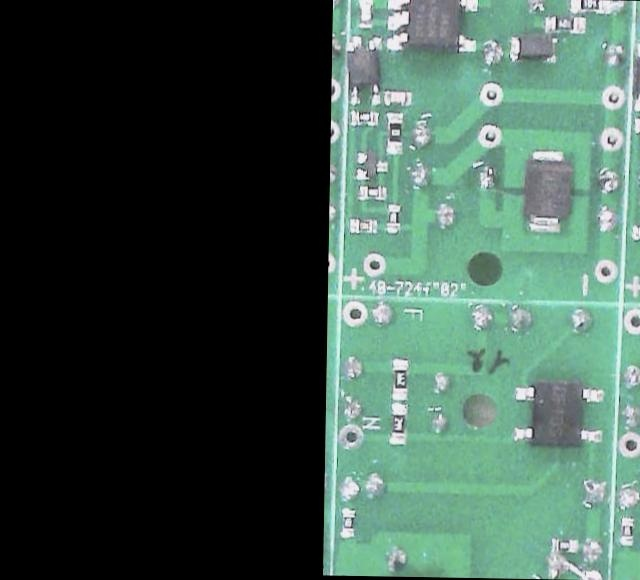chip-capacitor: (383, 89, 409, 102), (359, 0, 371, 24)
chip-resistor: (387, 401, 406, 442), (389, 357, 407, 399), (545, 14, 583, 32), (385, 114, 401, 150), (569, 0, 608, 12), (385, 203, 399, 230), (340, 508, 353, 536), (551, 537, 577, 551), (349, 219, 375, 232), (358, 184, 384, 197), (620, 516, 632, 544), (351, 110, 376, 123)
diode: (521, 147, 571, 232), (508, 34, 556, 60)
ic: (512, 379, 604, 446), (384, 0, 476, 51), (346, 33, 382, 106)
transistor: (355, 151, 385, 179)
